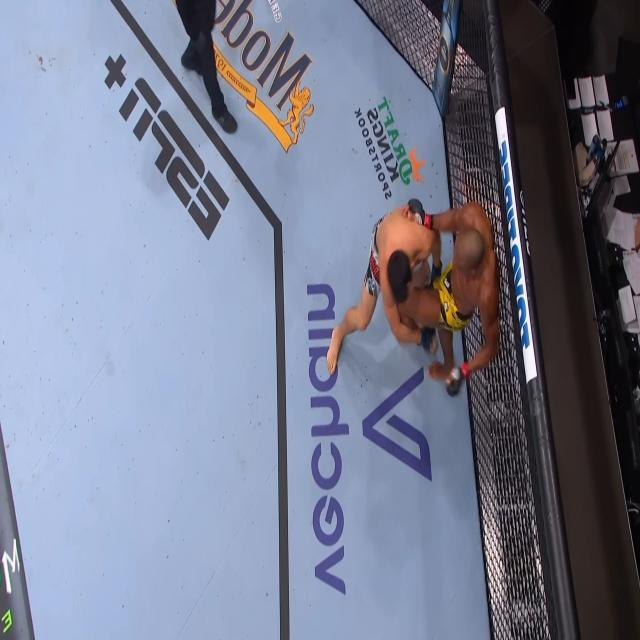violence: (326, 198, 500, 398)
